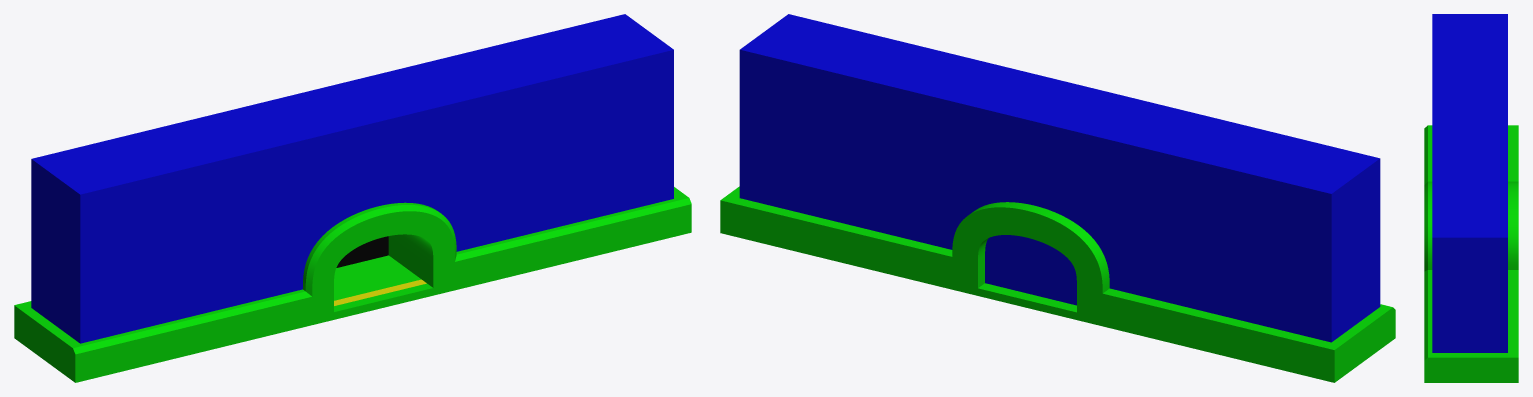
Rendered from Tunnel.fbx.
The picture shows the model from 3 angles, left to right: view 1: azimuth 30°, elevation 25°; view 2: azimuth 150°, elevation 25°; view 3: azimuth 270°, elevation 25°; orthographic projection. The views are drawn at different scales.
Parts seen in each view (by area): view 1: Tunnel; view 2: Tunnel; view 3: Tunnel.
Part boxes in pixels (x1,y1,x2,y2): Tunnel: (14, 14, 691, 382); Tunnel: (720, 14, 1395, 382); Tunnel: (1424, 14, 1518, 382).
Bounding box in the file's own units: 2091 × 590 × 360.
